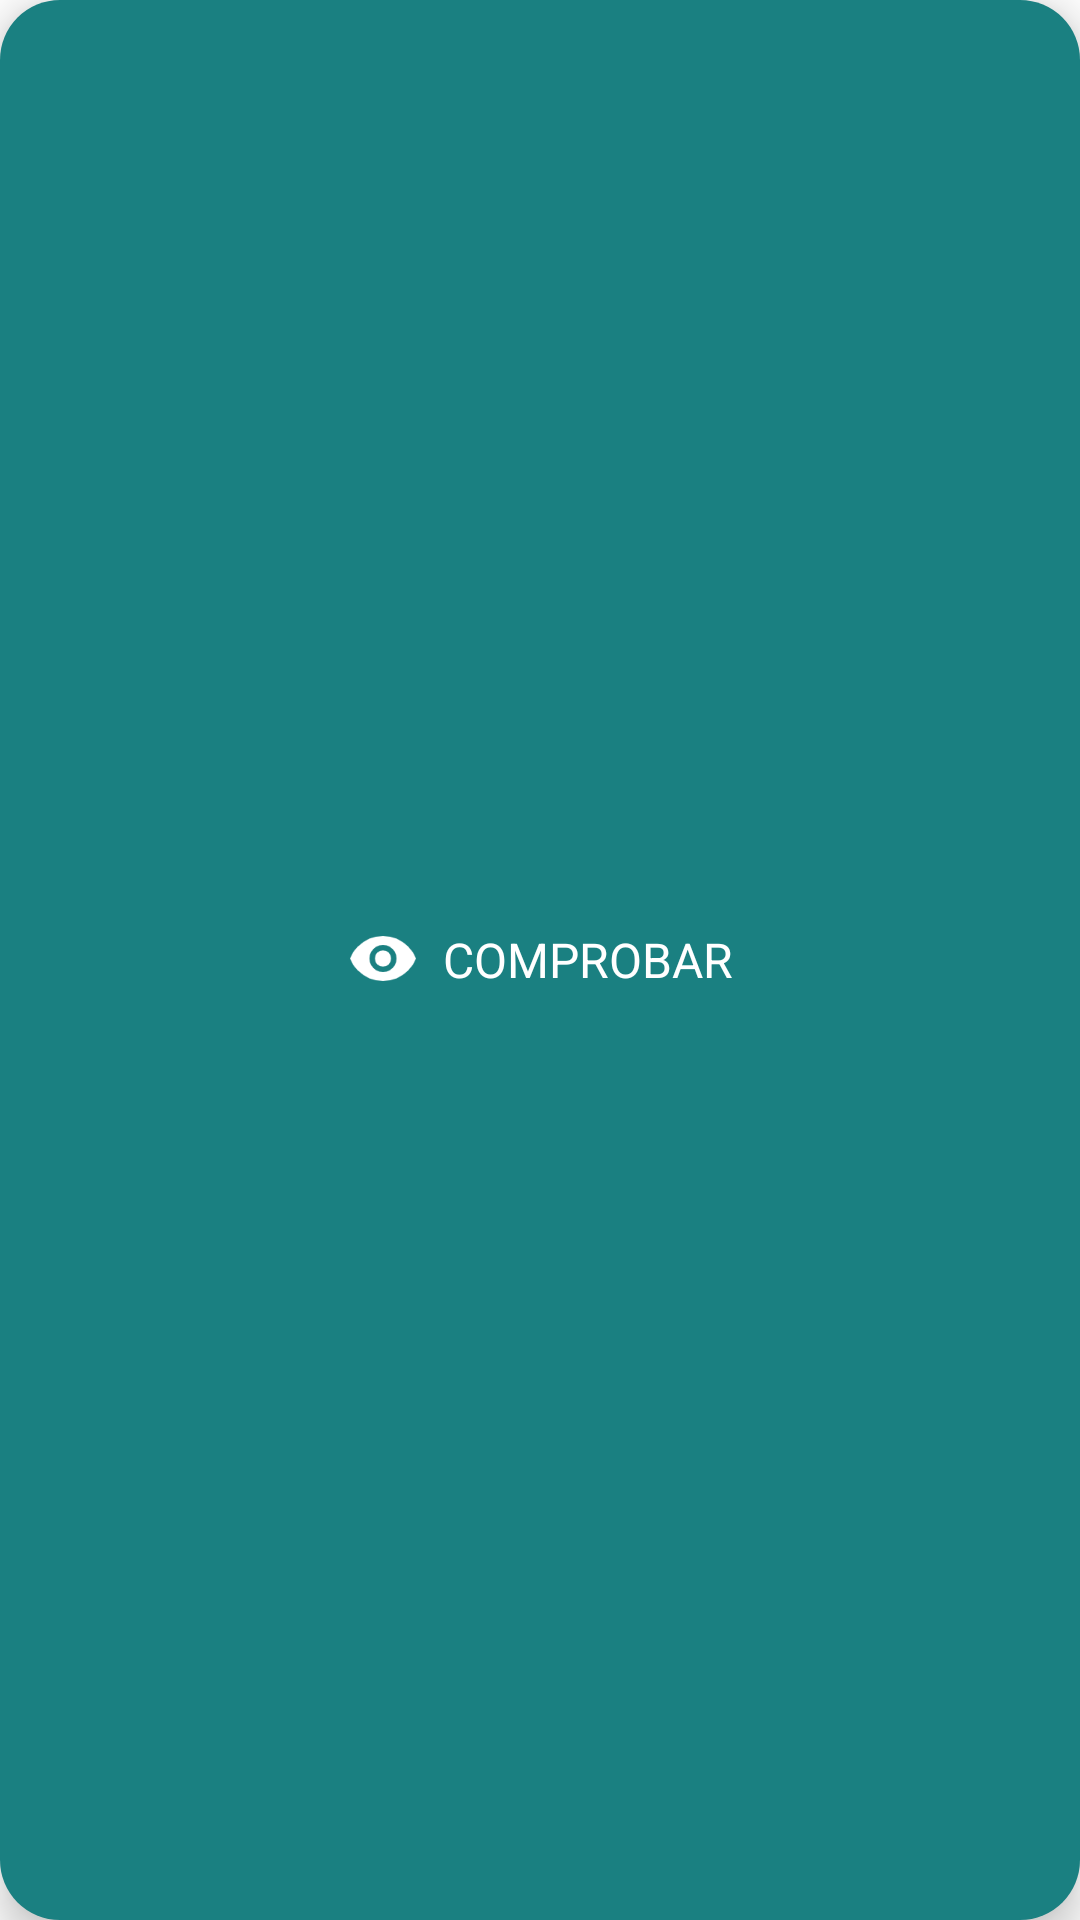

Icon click points for this 1080 × 1920 phone screenshot, format [x,y]:
eye: [383,958]
